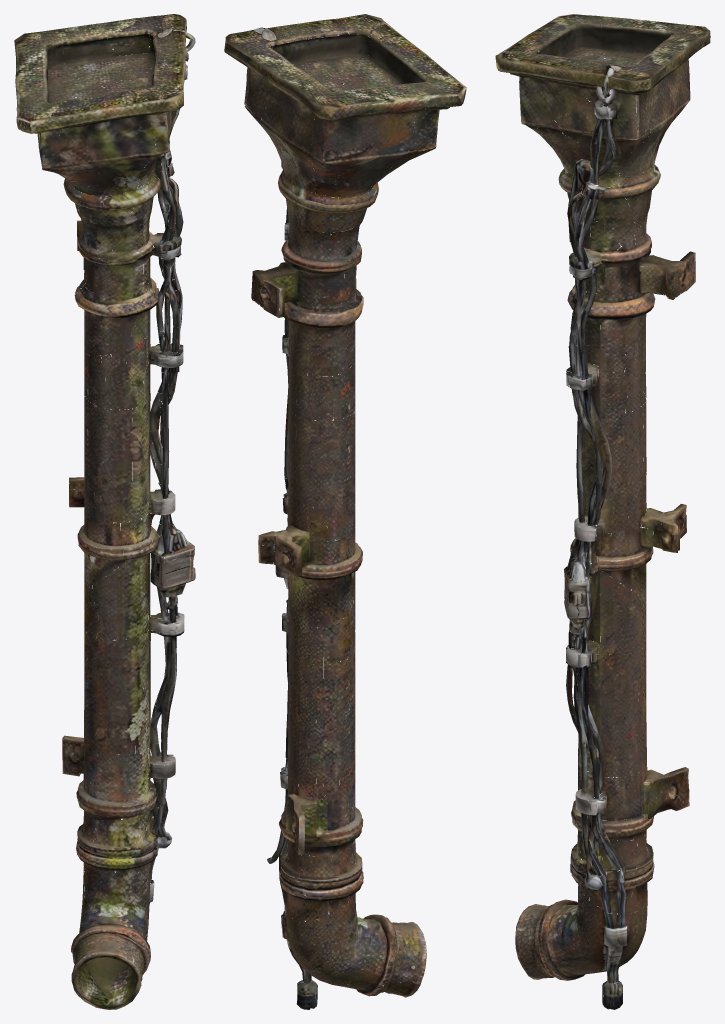
File: m_drainpipe.glb
3 renders of one model, left to right at view 1: azimuth 30°, elevation 25°; view 2: azimuth 150°, elevation 25°; view 3: azimuth 270°, elevation 25°, orthographic. The views are drawn at different scales.
Visible parts, largest first — view 1: tripo_node_4e4ce8a7-140f-4980-afd7-c7da52202507; view 2: tripo_node_4e4ce8a7-140f-4980-afd7-c7da52202507; view 3: tripo_node_4e4ce8a7-140f-4980-afd7-c7da52202507.
Boxes of the visible parts, x1,y1,x2,y2 form: tripo_node_4e4ce8a7-140f-4980-afd7-c7da52202507: [14, 14, 195, 1009]; tripo_node_4e4ce8a7-140f-4980-afd7-c7da52202507: [224, 14, 466, 1009]; tripo_node_4e4ce8a7-140f-4980-afd7-c7da52202507: [495, 14, 710, 1009].
Bounding box in the file's own units: 0.9335 × 4.2 × 0.8507.
1 material, 1 textured.
